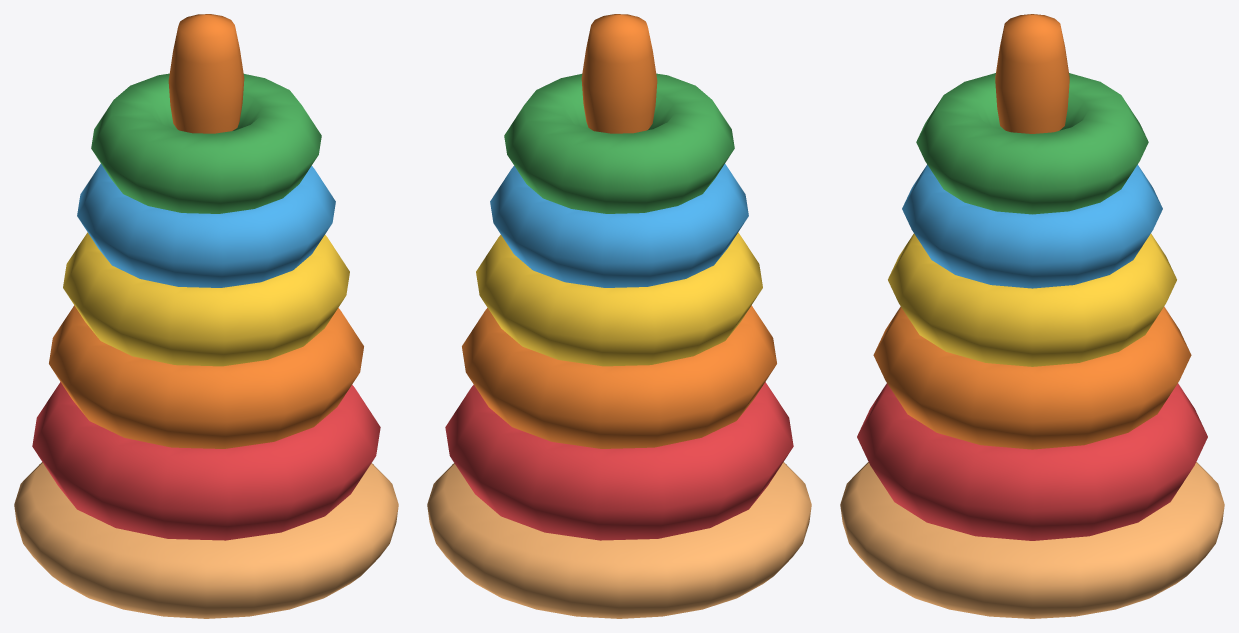
File: brinquedo_argolas.glb
3 renders of one model, left to right at view 1: azimuth 30°, elevation 25°; view 2: azimuth 150°, elevation 25°; view 3: azimuth 270°, elevation 25°, orthographic.
Visible parts, largest first — view 1: brinquedo_argolas; view 2: brinquedo_argolas; view 3: brinquedo_argolas.
Boxes of the visible parts, x1=… form: brinquedo_argolas: x1=14, y1=14, x2=398, y2=618; brinquedo_argolas: x1=427, y1=14, x2=811, y2=618; brinquedo_argolas: x1=840, y1=14, x2=1224, y2=618.
Size of the model in its own units: 0.162 by 0.248 by 0.162.
1 material, 1 textured.
